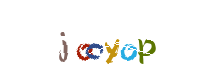C: (64, 0, 144, 80)
J: (42, 0, 122, 80)
O: (58, 0, 138, 80), (82, 0, 162, 80)
P: (89, 0, 169, 80)
Y: (73, 0, 153, 80)
